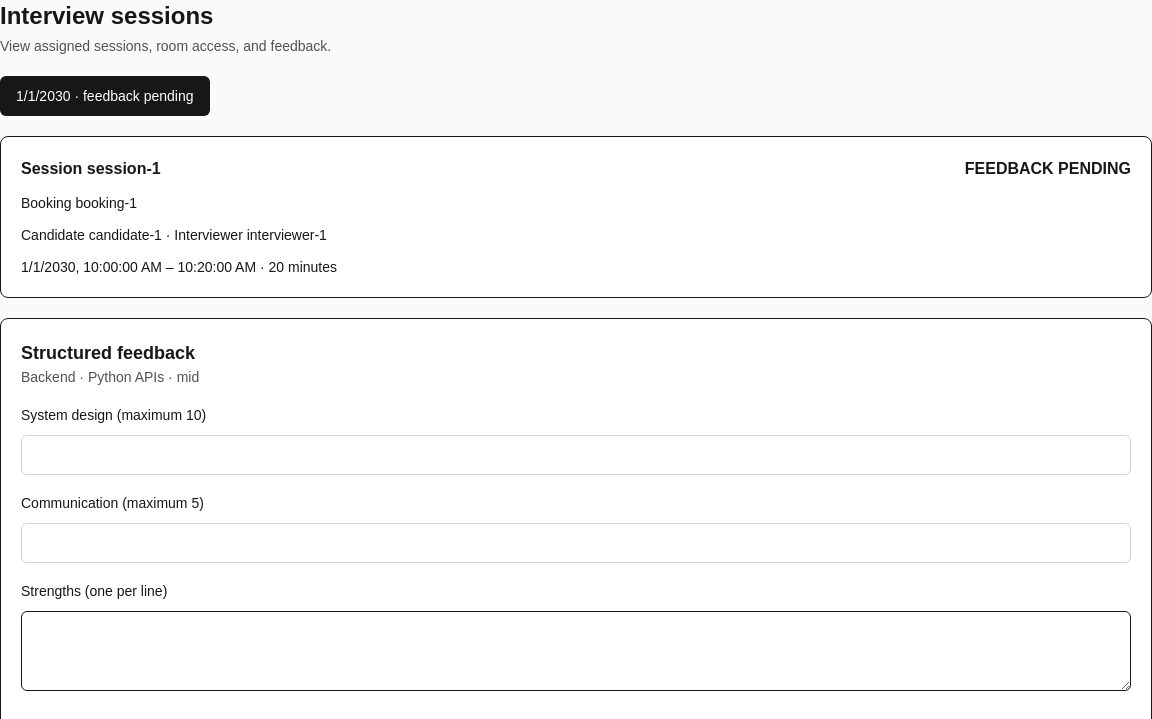
Test: SessionWorkspace › submits valid rubric-based feedback and reaches FEEDBACK_SUBMITTED
The image size is (1152, 719).
In the number field labelled "System design (maximum 10)": (576, 455) [21, 435, 1131, 475], type "8"
In the number field labelled "Communication (maximum 5)": (576, 543) [21, 523, 1131, 563], type "4"
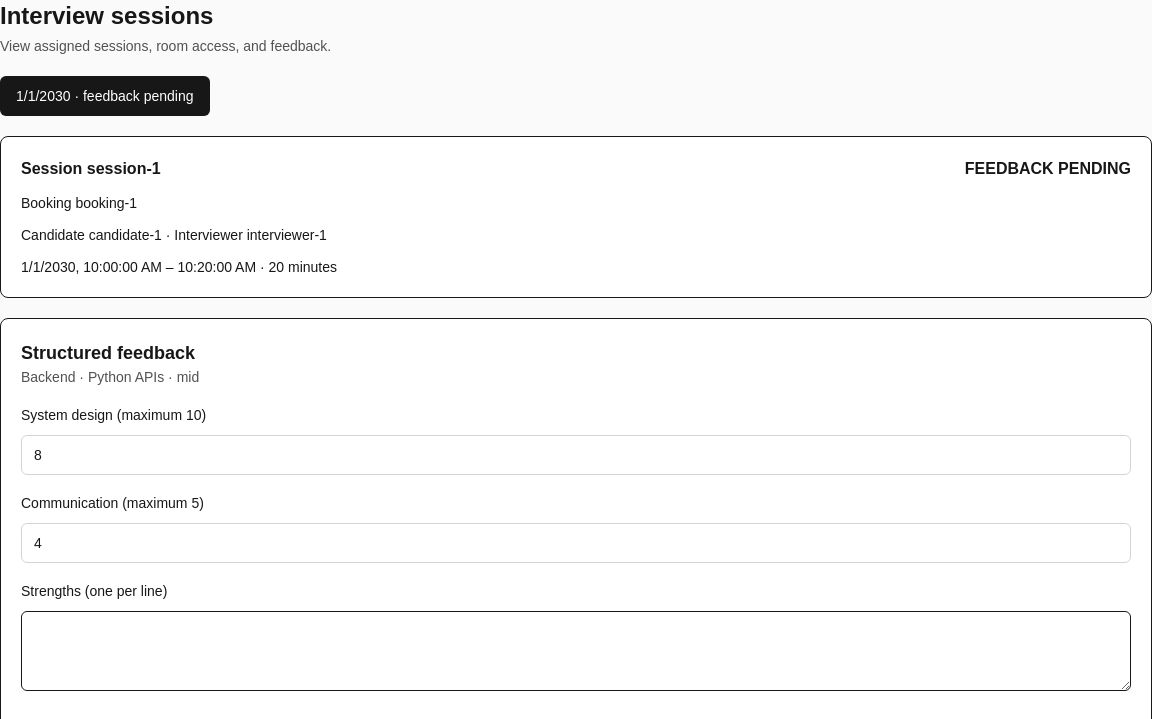
In the text box labelled "Strengths (one per line)": (576, 651) [21, 611, 1131, 691], type "Clear design"
(page scrolled)
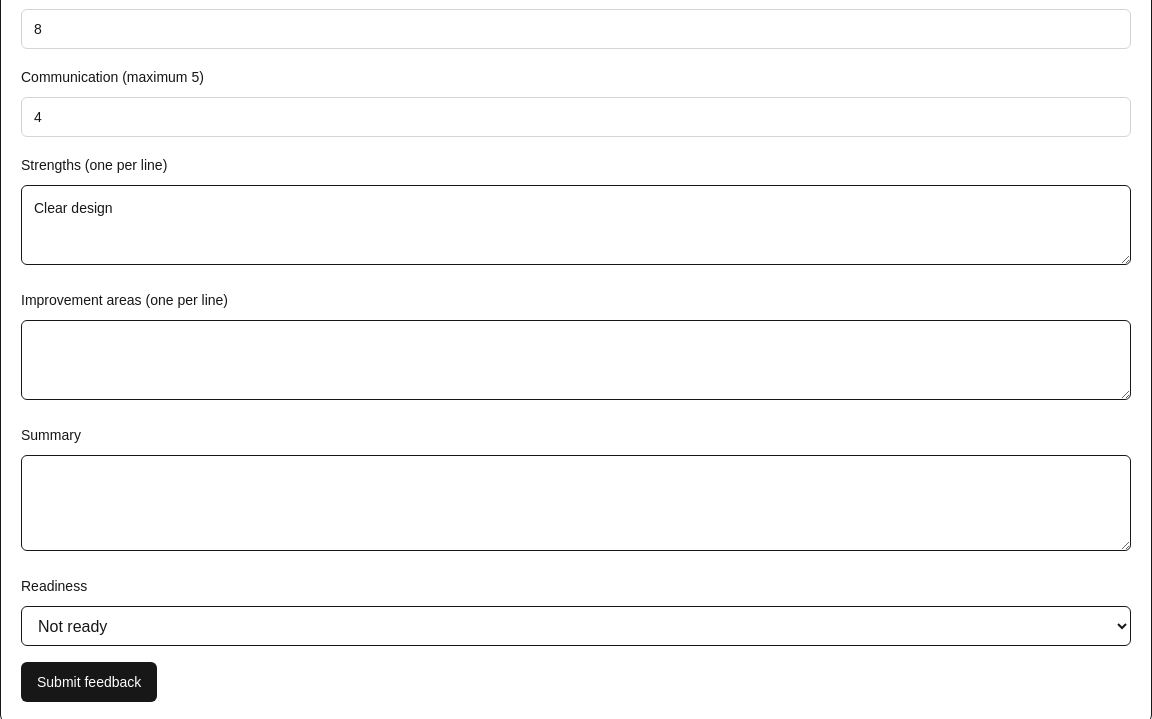
In the text box labelled "Improvement areas (one per line)": (576, 360) [21, 320, 1131, 400], type "Failure modes"
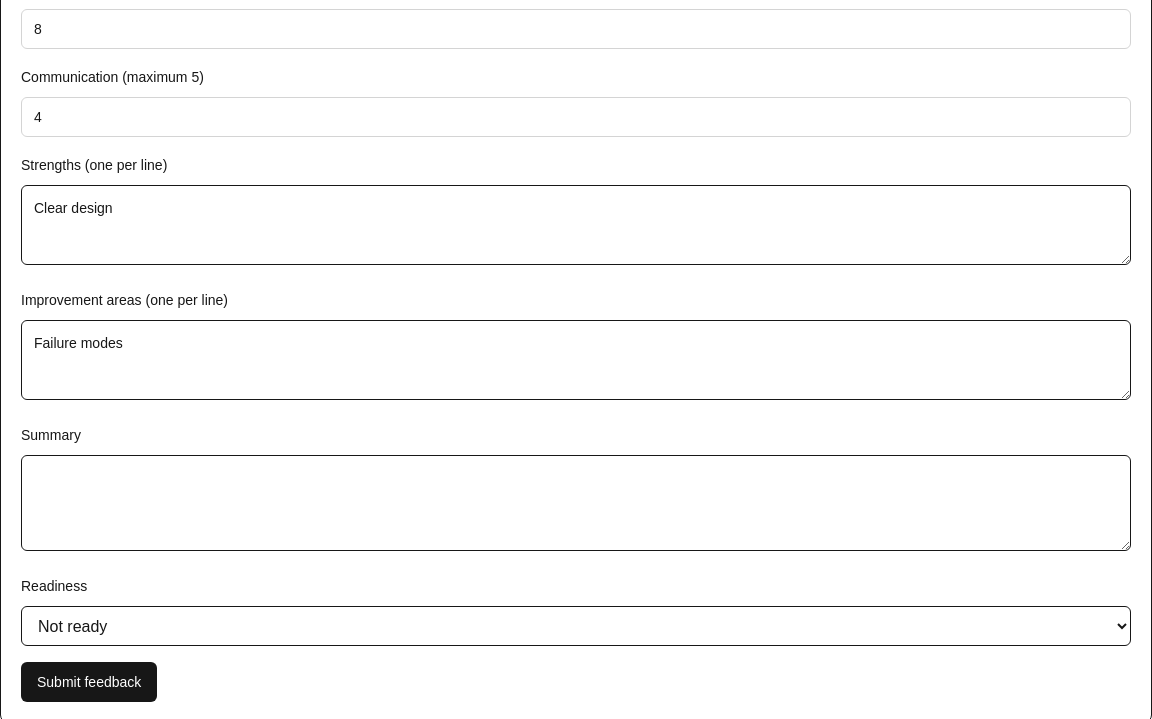
In the text box labelled "Summary": (576, 503) [21, 455, 1131, 551], type "Solid backend fundamentals."
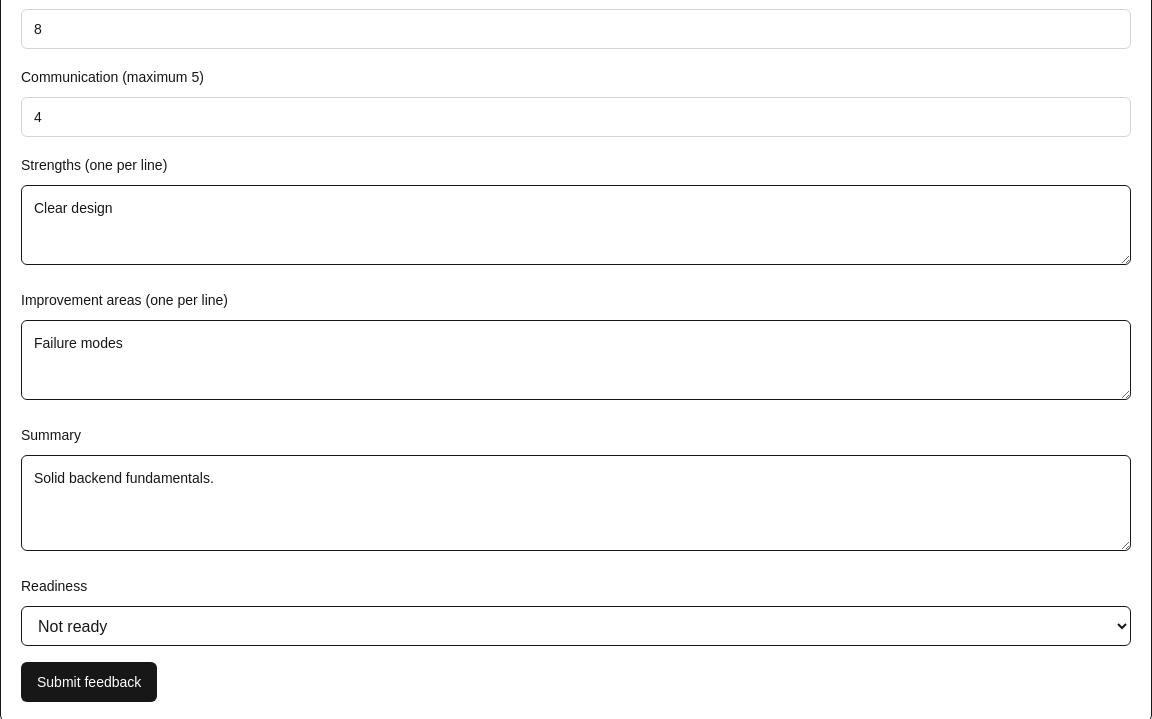
Select "Interview ready" in the dropdown labelled "Readiness": (576, 626) [21, 606, 1131, 646]
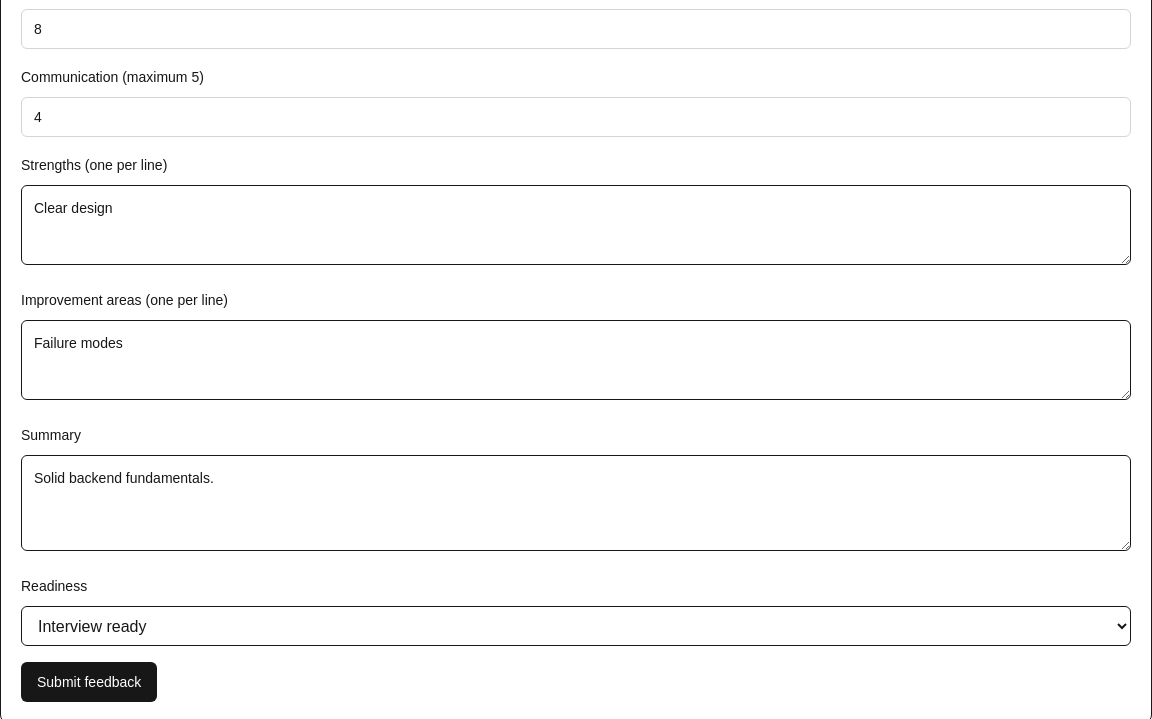
Click the button "Submit feedback": (89, 682) [21, 662, 157, 702]
(page scrolled)
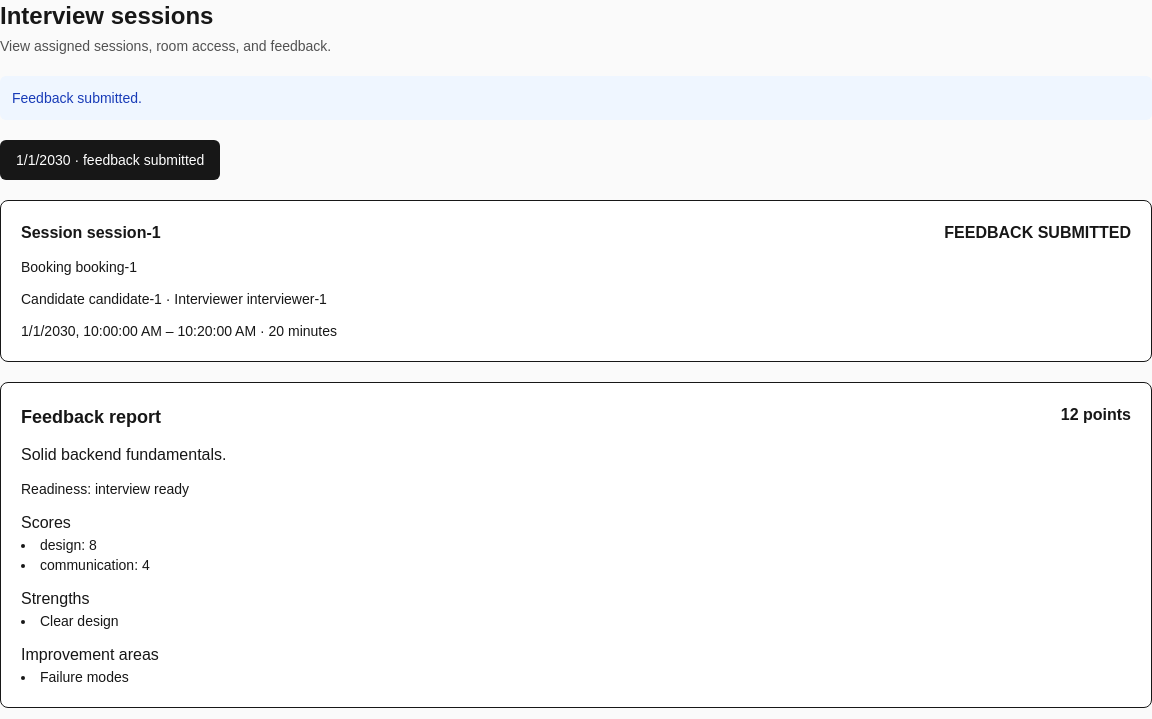
Check: the text "Feedback submitted." is shown, box [0, 76, 1151, 120]
